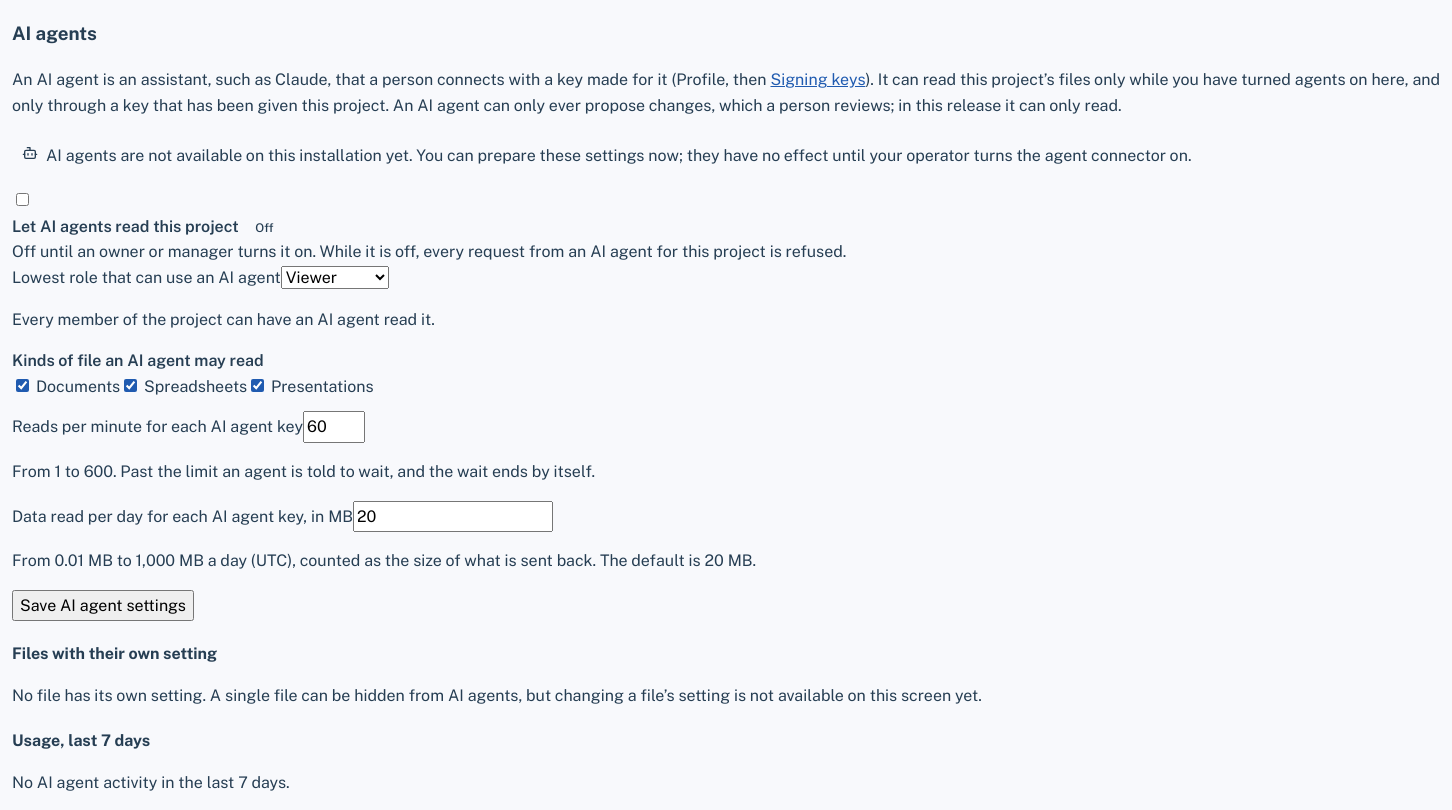
Test: ProjectAgentPolicy: saving › warns that nothing works yet when the installation does not serve agents
This screenshot has width=1452, height=810.
Click the switch: x=22, y=200 [16,193,29,206]
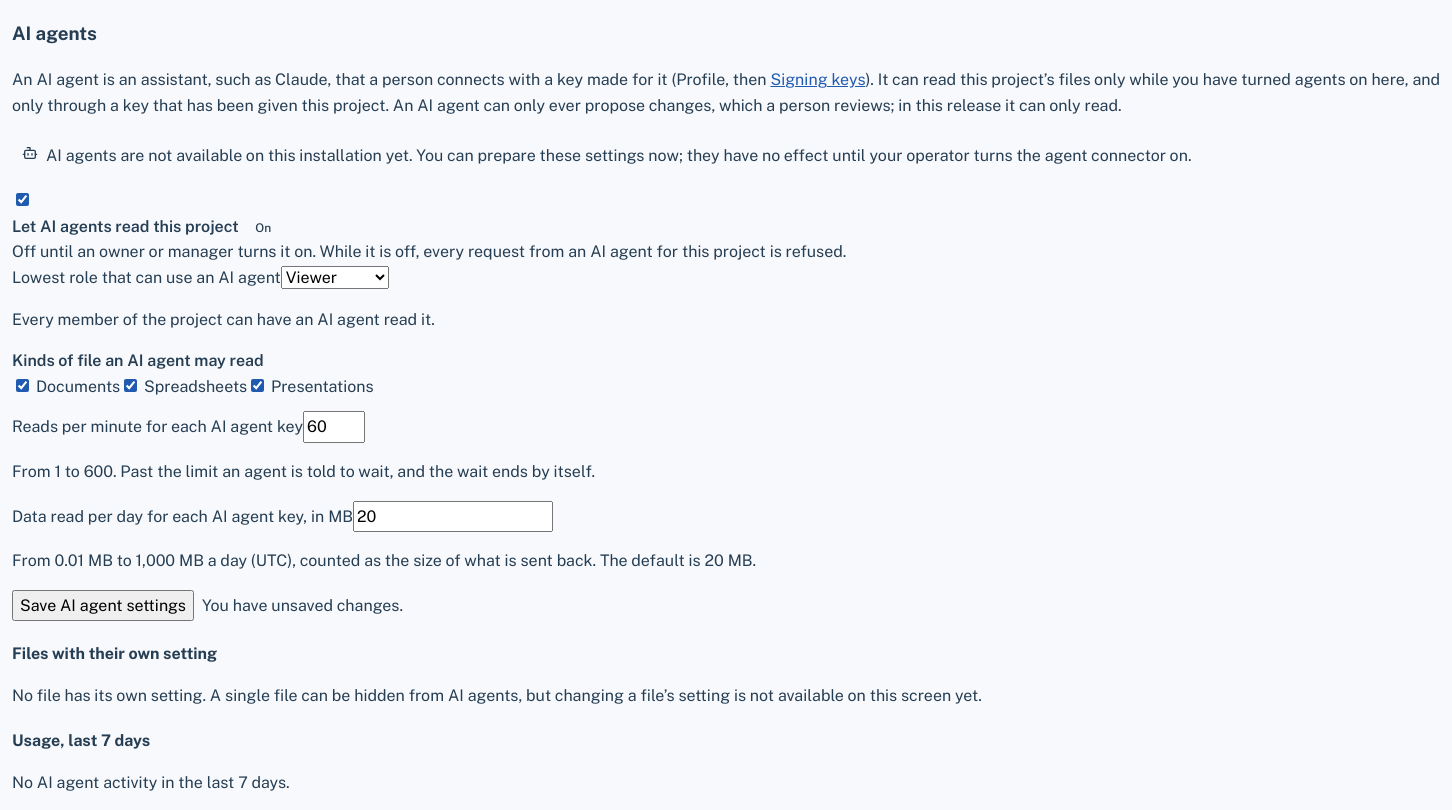
Click the button "Save AI agent settings": x=103, y=606 [12,590,194,621]
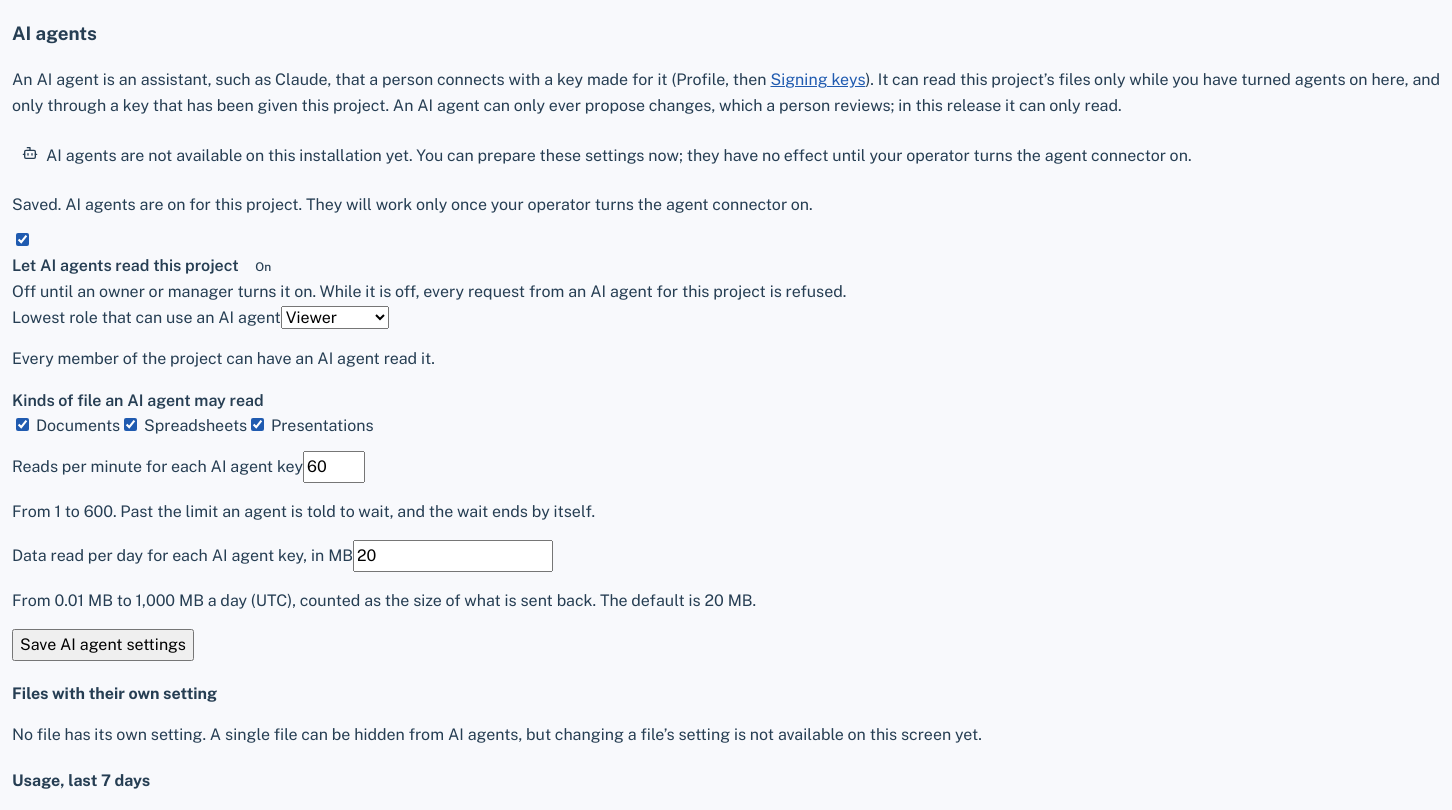
Expected: the text with class "repo-notice" shows "only once your operator turns the agent connector on", [12,195,813,214]
